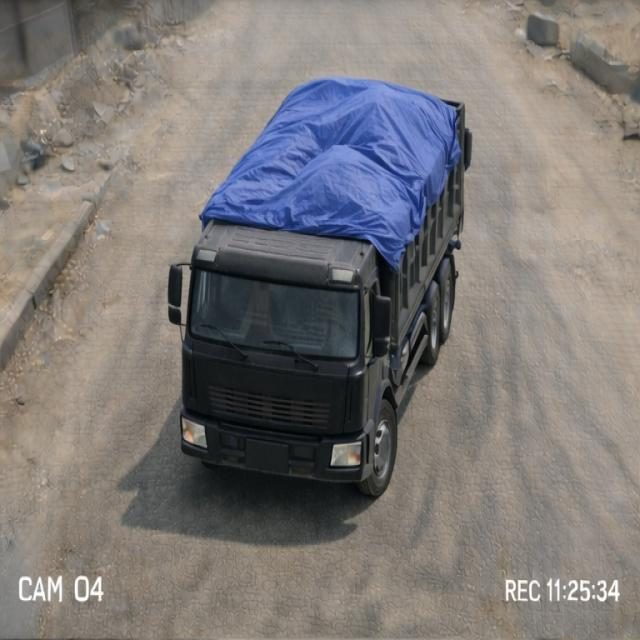Box: (205, 76, 474, 244)
Truck: (166, 71, 509, 484)
